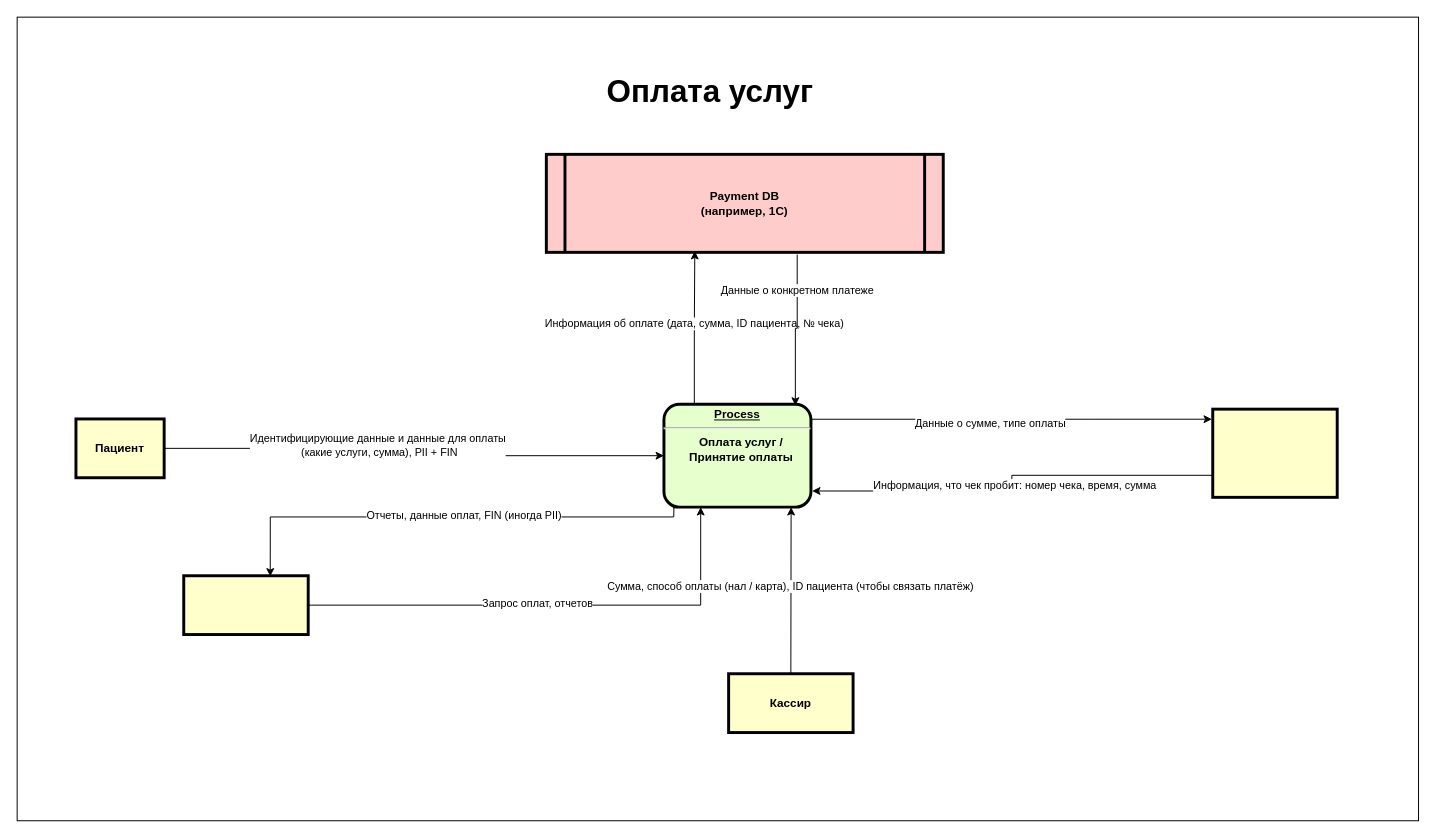
This 1436x838 diagram has some shape labels left out. Each missing label, with the centre of its shape:
Бухгалтер: point (245, 605)
Контрольно-кассовая машина: point (1274, 452)
